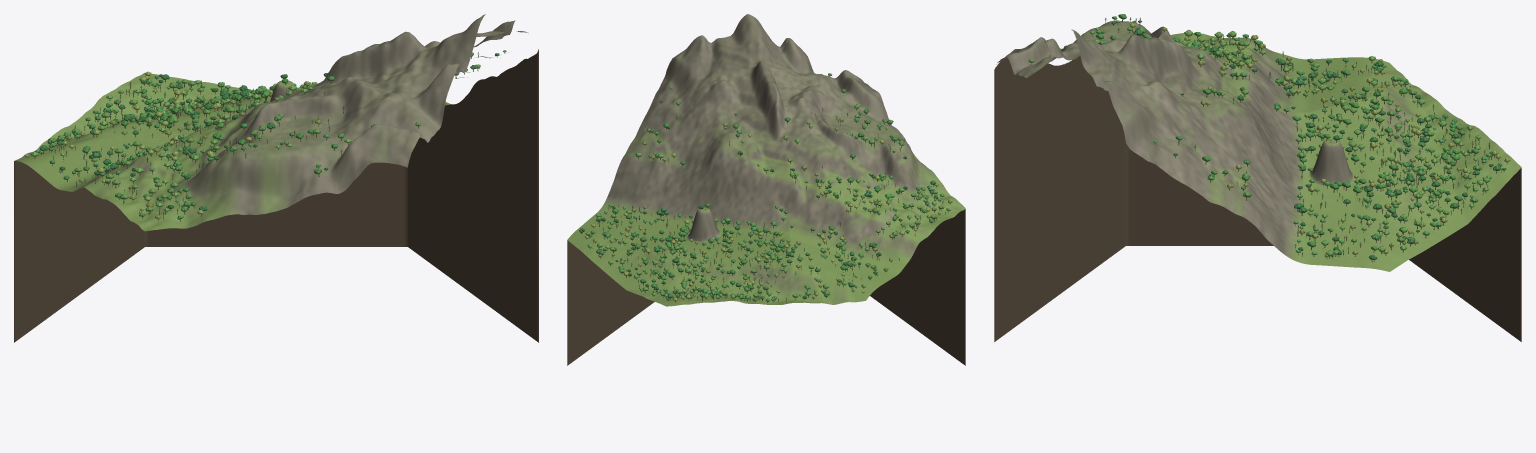
The picture shows the model from 3 angles, left to right: view 1: azimuth 30°, elevation 25°; view 2: azimuth 150°, elevation 25°; view 3: azimuth 270°, elevation 25°; orthographic projection. The views are drawn at different scales.
Visible parts, largest first — view 1: hex_side_cut, terrain, broadleaf_canopy, trunks; view 2: terrain, hex_side_cut, broadleaf_canopy, trunks, conifer_canopy; view 3: terrain, hex_side_cut, broadleaf_canopy, trunks, conifer_canopy.
Part boxes in pixels (box(x1,y1,x2,y2)): hex_side_cut: box(14, 49, 538, 342); terrain: box(14, 14, 528, 231); broadleaf_canopy: box(24, 50, 506, 219); trunks: box(27, 52, 504, 221); terrain: box(567, 14, 965, 306); hex_side_cut: box(567, 209, 965, 365); broadleaf_canopy: box(579, 73, 952, 301); trunks: box(581, 76, 950, 302); conifer_canopy: box(592, 101, 948, 300); terrain: box(995, 20, 1521, 271); hex_side_cut: box(994, 56, 1521, 341); broadleaf_canopy: box(1028, 14, 1510, 260); trunks: box(1030, 18, 1507, 262); conifer_canopy: box(1049, 17, 1501, 254).
Bounding box in the file's own units: 4330 × 3864 × 5000.
7 materials, 1 textured.
